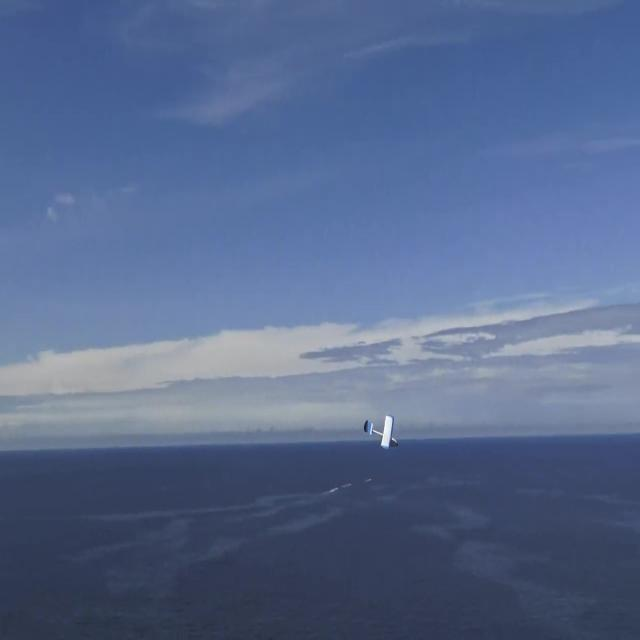iha: (363, 413, 400, 452)
